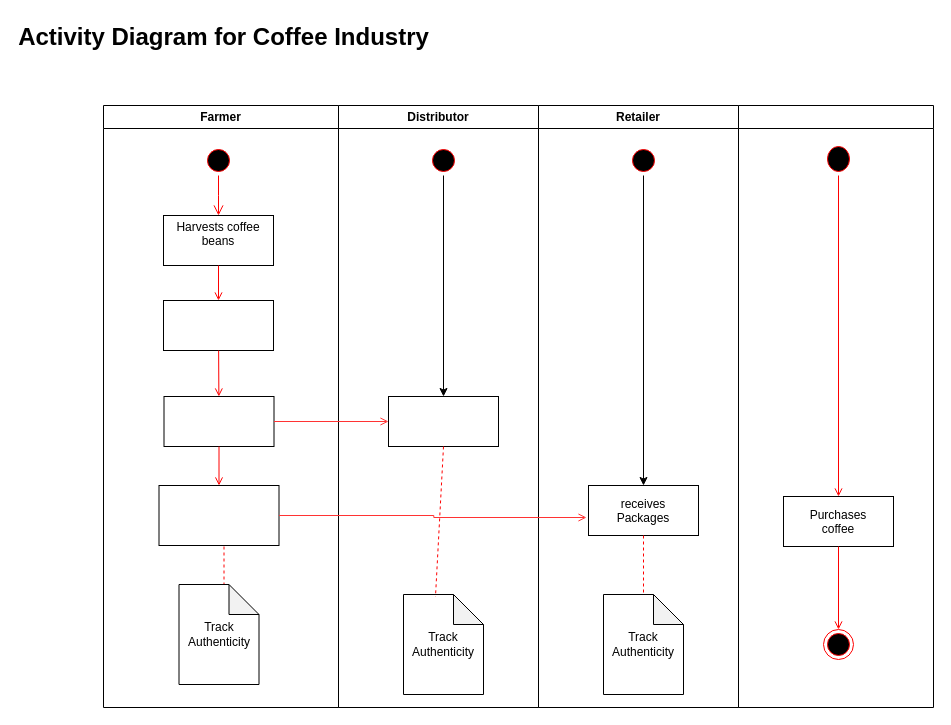
Some shapes in this 951 by 725 pixel diagram are drawn without their labels. The box of each missing label's shape, as (x1, y1, x2, y2) in pixels:
Consumer: (738, 104, 934, 708)
Creates bundles of packages for distribution: (163, 396, 274, 446)
Processes coffee beans: (162, 300, 274, 350)
Purchases Packages: (388, 396, 498, 446)
Ships Packages: (158, 484, 279, 546)
